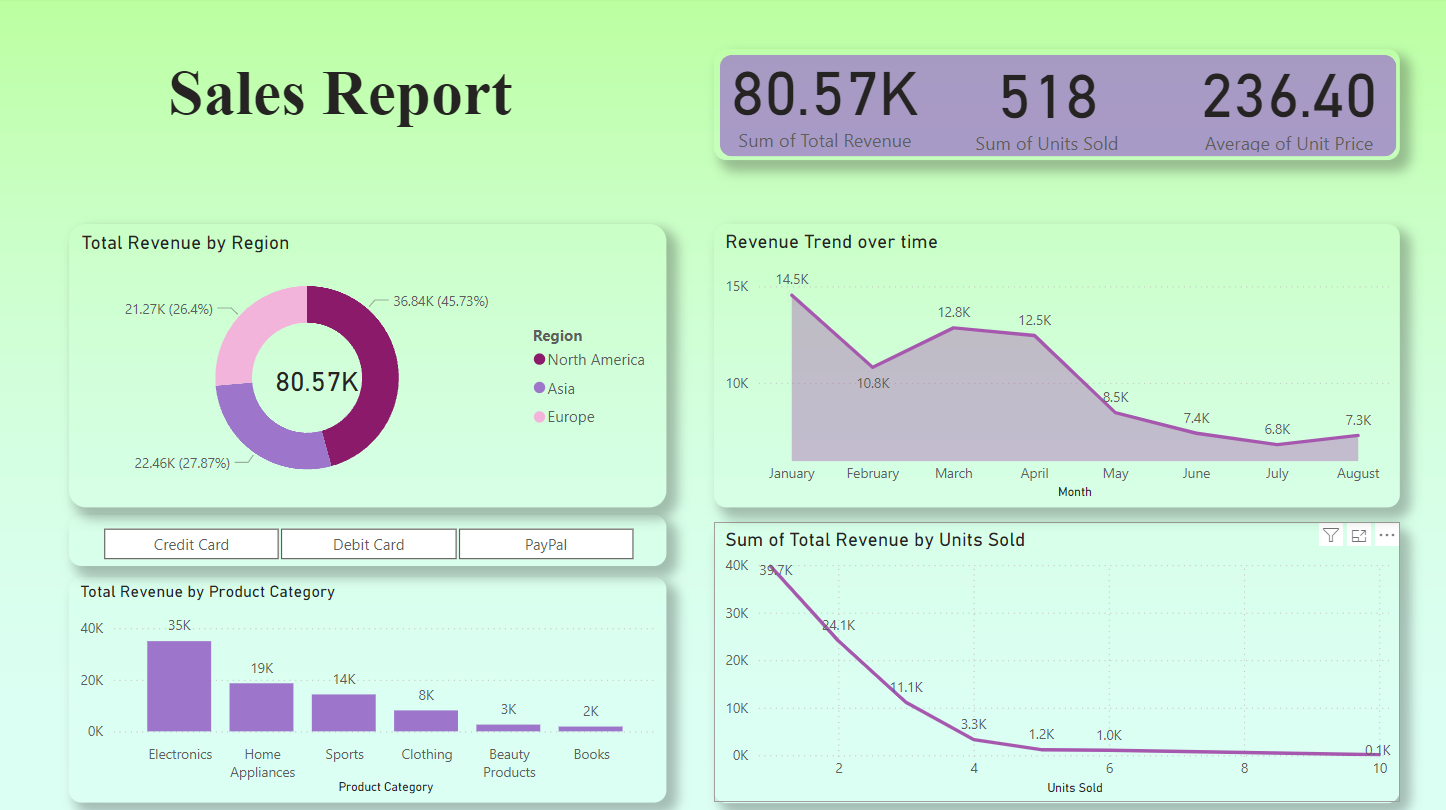

The dashboard page shown, as its layout file describes it:
{"tool":"powerbi","page":{"name":"Page 1","canvas":[1280,720],"ordinal":0},"visuals":[{"type":"donutChart","title":"Total Revenue by Region","fields":{"Y":["Sum(Online Sales Data.Total Revenue)"],"Category":["Online Sales Data.Region"]},"box":[63.1,200.4,527.1,250.2],"z":0},{"type":"shape","box":[632.5,45.9,605.2,97.9],"z":1000},{"type":"slicer","fields":{"Values":["Online Sales Data.Payment Method"]},"box":[63.1,456.6,527.1,44.9],"z":2000},{"type":"card","fields":{"Values":["Sum(Online Sales Data.Total Revenue)"]},"box":[235.5,294.6,93.5,87.3],"z":3000},{"type":"textbox","box":[52.2,47.4,501.6,97.2],"z":4000},{"type":"card","fields":{"Values":["Sum(Online Sales Data.Total Revenue)"]},"box":[632.5,34.4,195.8,107.6],"z":5000},{"type":"lineChart","fields":{"Category":["Online Sales Data.Units Sold"],"Y":["Sum(Online Sales Data.Total Revenue)"]},"box":[632.7,462.7,604.8,247.7],"z":6000},{"type":"card","fields":{"Values":["Sum(Online Sales Data.Units Sold)"]},"box":[828.3,37.1,195.8,107.6],"z":7000},{"type":"card","fields":{"Values":["Avg(Online Sales Data.Unit Price)"]},"box":[1041.8,38.8,195.8,103.2],"z":8000},{"type":"areaChart","title":"Revenue Trend over time","fields":{"Category":["Online Sales Data.Date.Variation.Date Hierarchy.Month"],"Y":["Sum(Online Sales Data.Total Revenue)"]},"box":[632.7,200.4,604.8,250.2],"z":9000},{"type":"clusteredColumnChart","title":"Total Revenue by Product Category","fields":{"Category":["Online Sales Data.Product Category"],"Y":["Sum(Online Sales Data.Total Revenue)"]},"box":[63.1,511.3,527.1,199.2],"z":10000}]}

Visuals, with their boxes in screenshot pixels (x1, y1, x2, y2), scaled from the page's 1280x720 canvas onto the 1446x810 screenshot:
"Total Revenue by Region" donutChart: <bbox>71, 225, 667, 507</bbox>
shape: <bbox>715, 52, 1398, 162</bbox>
slicer - Online Sales Data.Payment Method: <bbox>71, 514, 667, 564</bbox>
card - Sum(Online Sales Data.Total Revenue): <bbox>266, 331, 372, 430</bbox>
textbox: <bbox>59, 53, 626, 163</bbox>
card - Sum(Online Sales Data.Total Revenue): <bbox>715, 39, 936, 160</bbox>
lineChart - Online Sales Data.Units Sold x Sum(Online Sales Data.Total Revenue): <bbox>715, 521, 1398, 799</bbox>
card - Sum(Online Sales Data.Units Sold): <bbox>936, 42, 1157, 163</bbox>
card - Avg(Online Sales Data.Unit Price): <bbox>1177, 44, 1398, 160</bbox>
"Revenue Trend over time" areaChart: <bbox>715, 225, 1398, 507</bbox>
"Total Revenue by Product Category" clusteredColumnChart: <bbox>71, 575, 667, 799</bbox>
